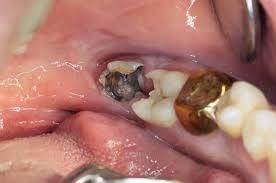cavity: (171, 63, 237, 140), (132, 63, 198, 130), (86, 50, 148, 106), (215, 76, 273, 131)
normal: (237, 106, 276, 166)
